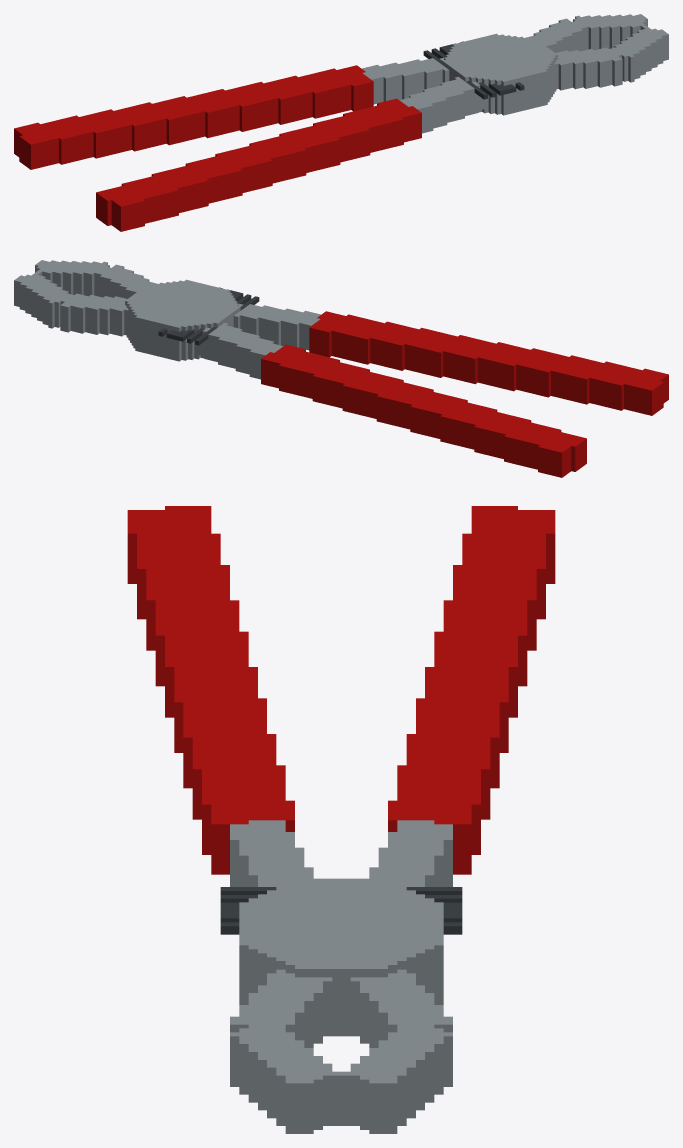
File: big_pliers.glb
The picture shows the model from 3 angles, top to bottom: view 1: azimuth 30°, elevation 25°; view 2: azimuth 150°, elevation 25°; view 3: azimuth 270°, elevation 25°; orthographic projection. The views are drawn at different scales.
Visible parts, largest first — view 1: big_pliers:pliers; view 2: big_pliers:pliers; view 3: big_pliers:pliers.
Boxes of the visible parts, left/top/right/bottom form: big_pliers:pliers: left=14, top=14, right=668, bottom=231; big_pliers:pliers: left=14, top=260, right=668, bottom=477; big_pliers:pliers: left=127, top=506, right=555, bottom=1133.
Size of the model in its own units: 0.294 by 0.016 by 0.092.
